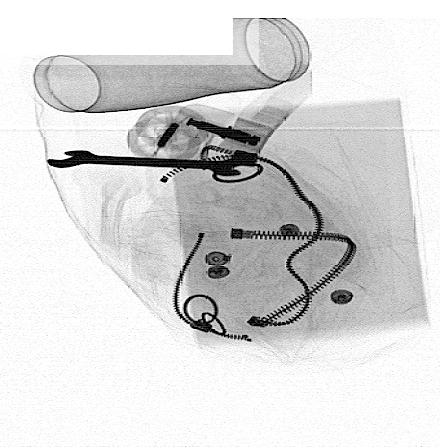Wrench: (46, 149, 259, 177)
